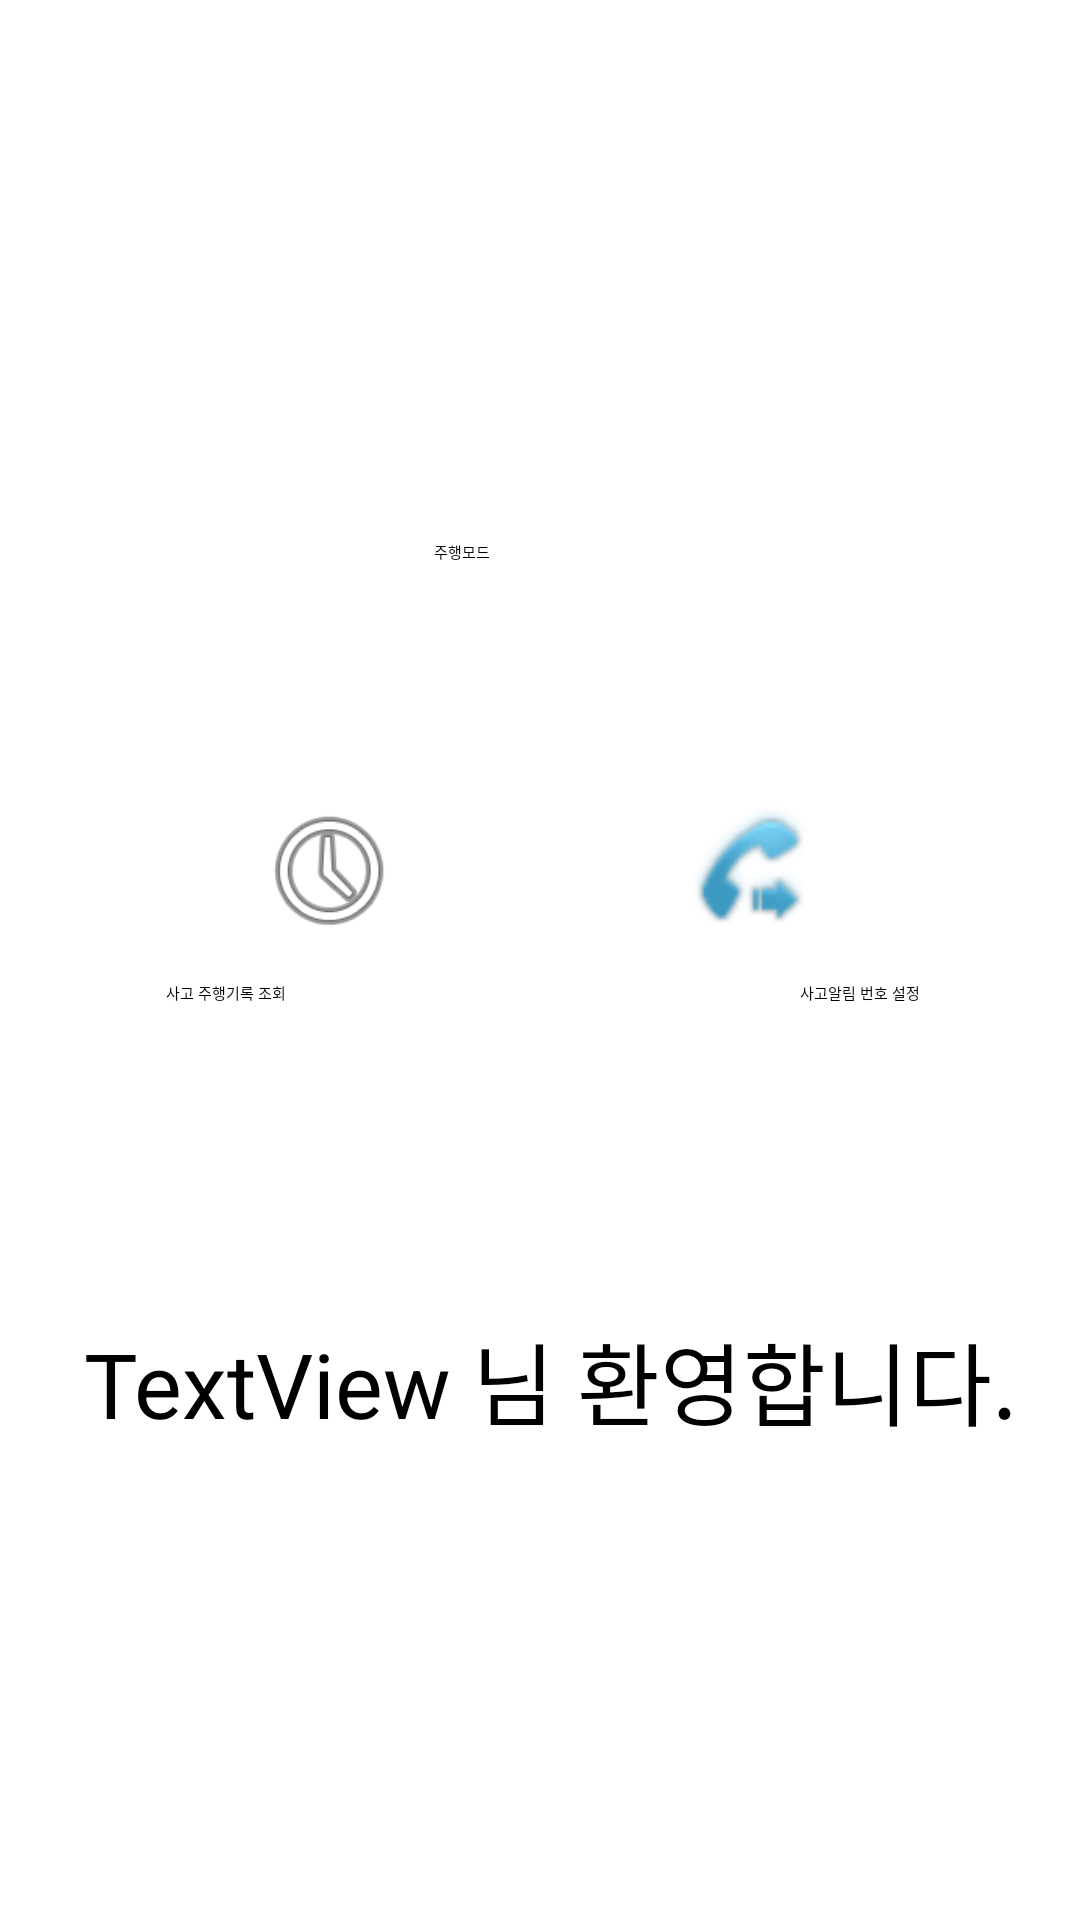

Point at icon controls on the screen. Image size 1080px×1920px, points as [x,y].
phone call forward: [750,868]
recent history: [329,870]
